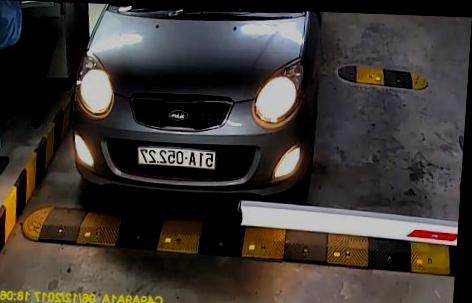License_Plate: (133, 142, 221, 173)
